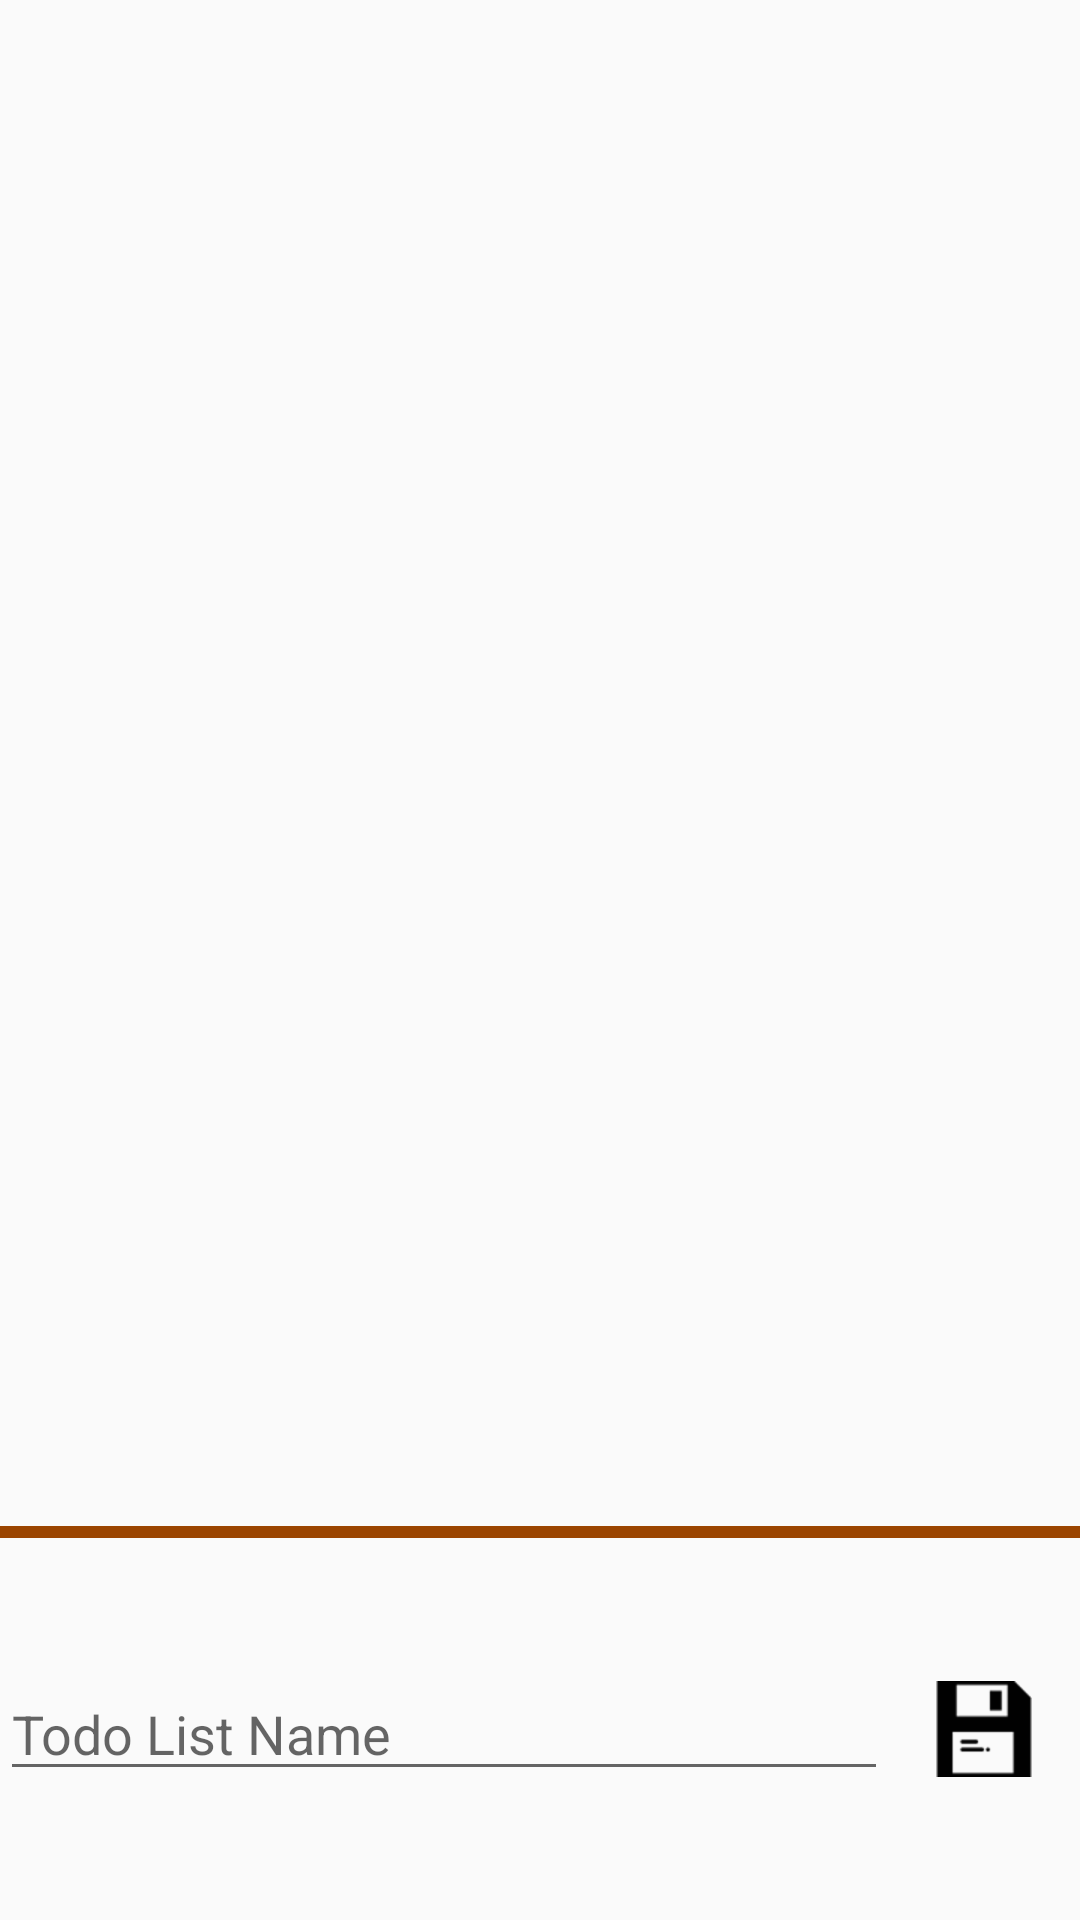

Where icons sit on this 1080*1920 app screen, as (x1, y1, x2, y2):
save: (936, 1681, 1032, 1777)
